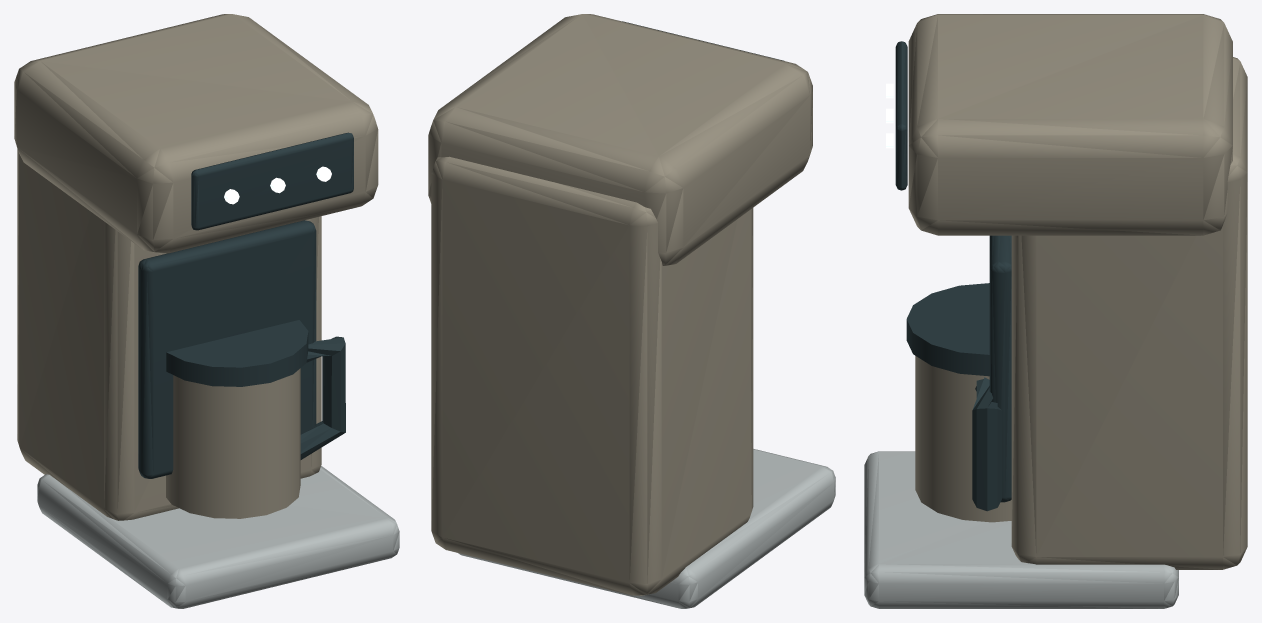
File: 11_starter_coffee_machine.glb
The picture shows the model from 3 angles, left to right: view 1: azimuth 30°, elevation 25°; view 2: azimuth 150°, elevation 25°; view 3: azimuth 270°, elevation 25°; orthographic projection. The views are drawn at different scales.
Parts seen in each view (by area): view 1: 11_starter_coffee_machine__Static; view 2: 11_starter_coffee_machine__Static; view 3: 11_starter_coffee_machine__Static.
Part boxes in pixels (x1,y1,x2,y2): 11_starter_coffee_machine__Static: (14,14,399,608); 11_starter_coffee_machine__Static: (428,14,835,608); 11_starter_coffee_machine__Static: (864,14,1247,608).
Size of the model in its own units: 0.31 by 0.545 by 0.39.
